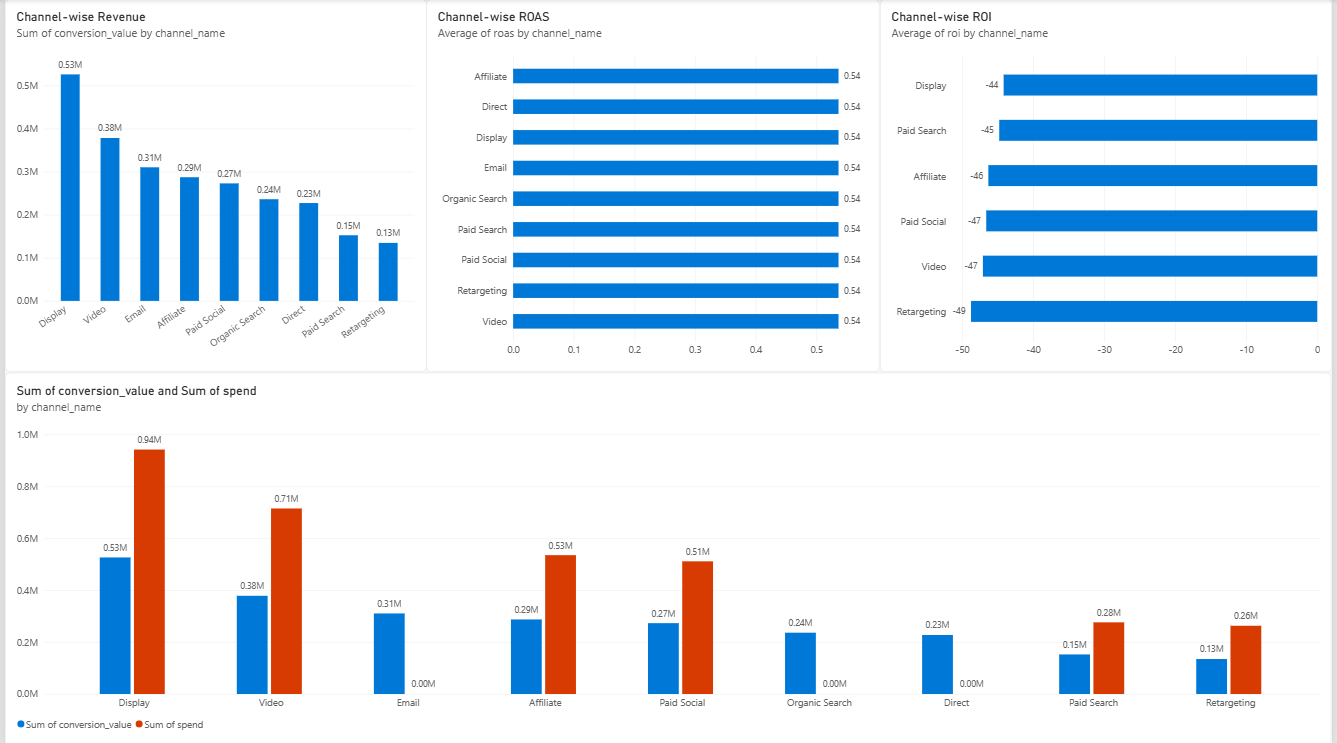

Layout of this report page (visuals, bound fields, positions):
{"tool":"powerbi","page":{"name":"Channel Analysis","canvas":[1920,1080],"ordinal":1},"visuals":[{"type":"clusteredColumnChart","title":"Channel-wise Revenue","fields":{"Category":["channel_performance.channel_name"],"Y":["Sum(channel_performance.conversion_value)"]},"box":[0,0,610.1,540.3],"z":0},{"type":"clusteredBarChart","title":"Channel-wise ROAS","fields":{"Category":["campaign_performance.channel_name"],"Y":["Avg(channel_performance.roas)"]},"box":[610.1,0,656.1,540.3],"z":1},{"type":"clusteredBarChart","title":"Channel-wise ROI","fields":{"Category":["channel_performance.channel_name"],"Y":["Avg(channel_performance.roi)"]},"box":[1266.2,0,654.2,540.3],"z":2},{"type":"clusteredColumnChart","fields":{"Category":["channel_performance.channel_name"],"Y":["Sum(channel_performance.conversion_value)","Sum(channel_performance.spend)"]},"box":[0,540.3,1920.4,540.3],"z":3}]}

Visuals, with their boxes in screenshot pixels (x1, y1, x2, y2), scaled from the page's 1920x1080 canvas onto the 1337x743 screenshot:
"Channel-wise Revenue" clusteredColumnChart: locate(0, 0, 425, 372)
"Channel-wise ROAS" clusteredBarChart: locate(425, 0, 882, 372)
"Channel-wise ROI" clusteredBarChart: locate(882, 0, 1336, 372)
clusteredColumnChart - channel_performance.channel_name x Sum(channel_performance.conversion_value): locate(0, 372, 1336, 742)
